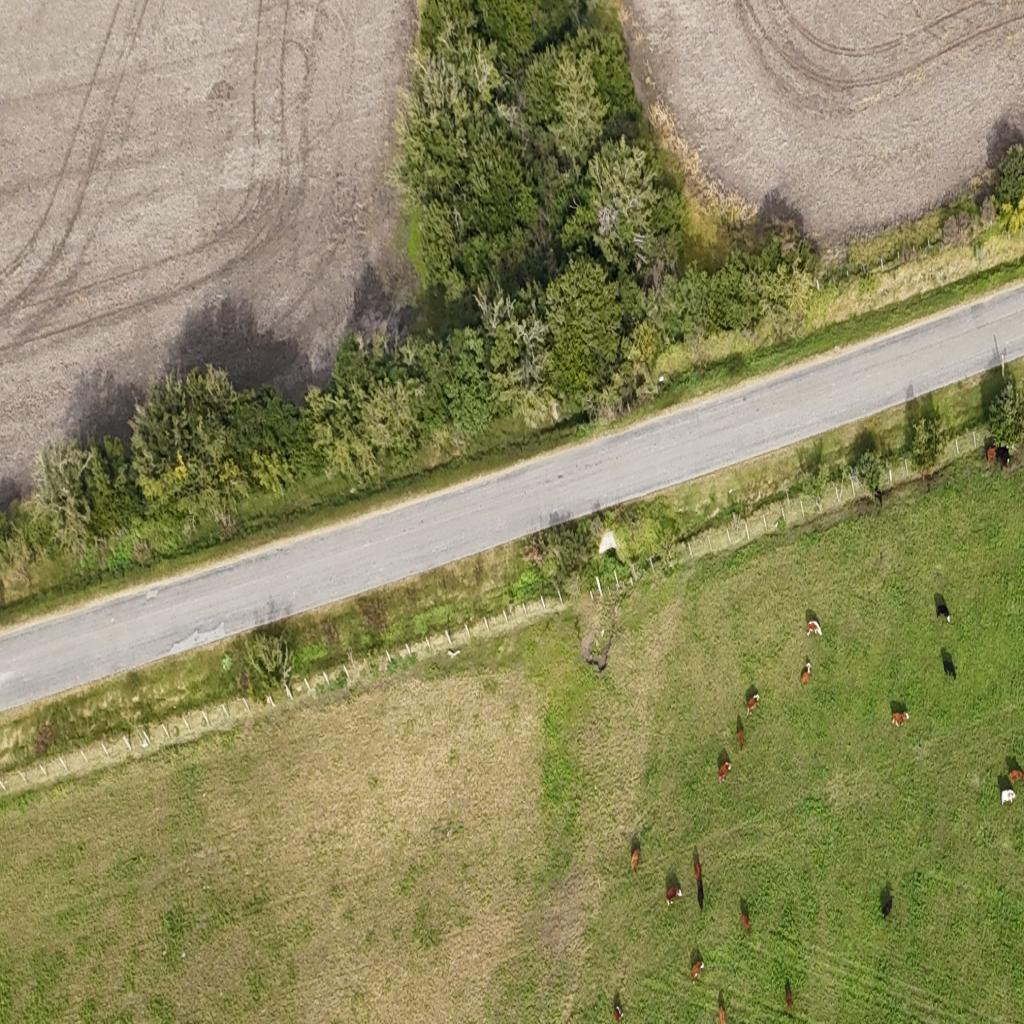cow: (665, 872, 683, 908), (1004, 755, 1024, 785), (941, 647, 957, 681), (690, 947, 704, 985), (880, 882, 894, 920), (717, 749, 732, 783), (935, 593, 951, 624), (744, 689, 761, 718), (630, 835, 641, 873), (996, 444, 1012, 470), (740, 897, 751, 934), (891, 708, 910, 728), (984, 438, 998, 464), (806, 617, 823, 638), (696, 881, 707, 912), (1000, 786, 1017, 806), (736, 717, 746, 751), (800, 658, 812, 686), (692, 856, 704, 884), (785, 982, 793, 1014), (613, 1002, 624, 1023), (718, 1004, 727, 1024)
